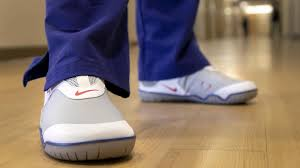nike: (68, 86, 103, 98), (157, 78, 183, 94)
